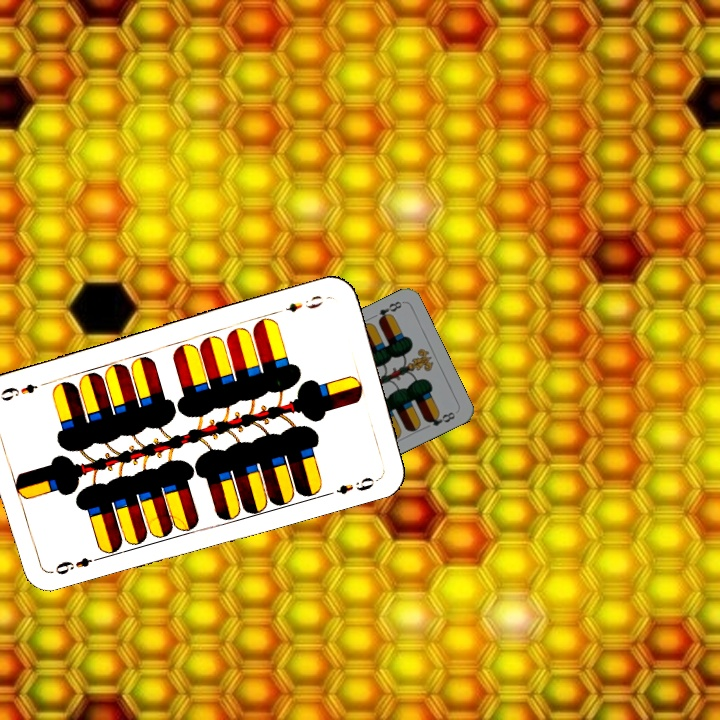E8: (374, 297, 404, 325)
E9: (51, 553, 104, 577), (281, 291, 326, 315)
